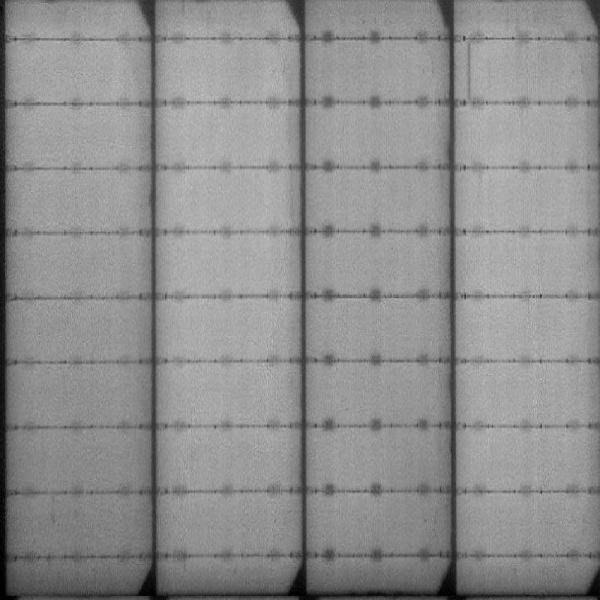scratch: (462, 47, 477, 104)
